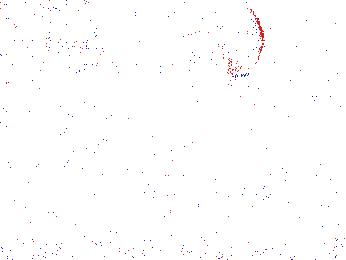moon jellyfish: (142, 1, 227, 69), (233, 74, 288, 160), (39, 11, 106, 77), (213, 1, 264, 79), (1, 1, 52, 56)
